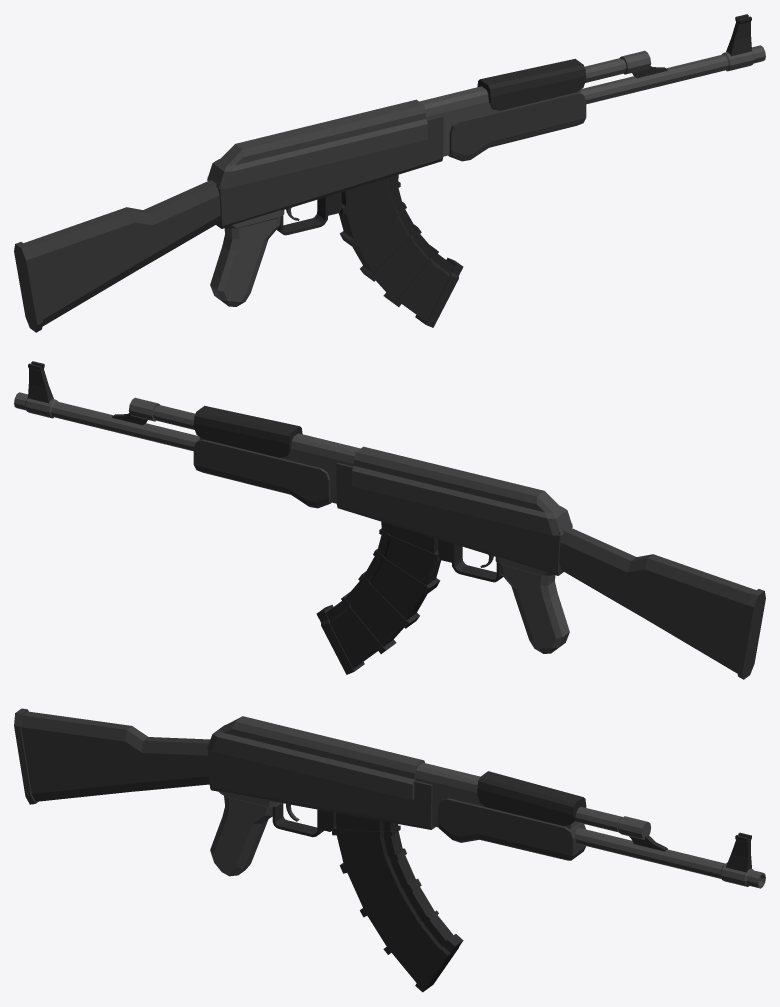
File: rifle.fbx
3 views of the same model, one above another, from view 1: azimuth 30°, elevation 25°; view 2: azimuth 150°, elevation 25°; view 3: azimuth 330°, elevation 25° (orthographic).
Parts seen in each view (by area): view 1: AssaultRifle_5; view 2: AssaultRifle_5; view 3: AssaultRifle_5.
Boxes of the visible parts, x1,y1,x2,y2 form: AssaultRifle_5: (14, 14, 765, 332); AssaultRifle_5: (14, 361, 765, 679); AssaultRifle_5: (14, 708, 765, 992).
Size of the model in its own units: 542 by 160 by 19.6.
1 material, 1 textured.
